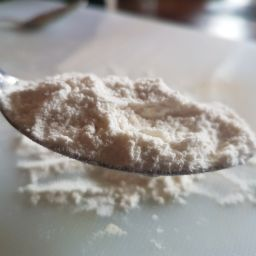Plain flour: (1, 60, 256, 170), (8, 133, 256, 206), (59, 76, 208, 154)
